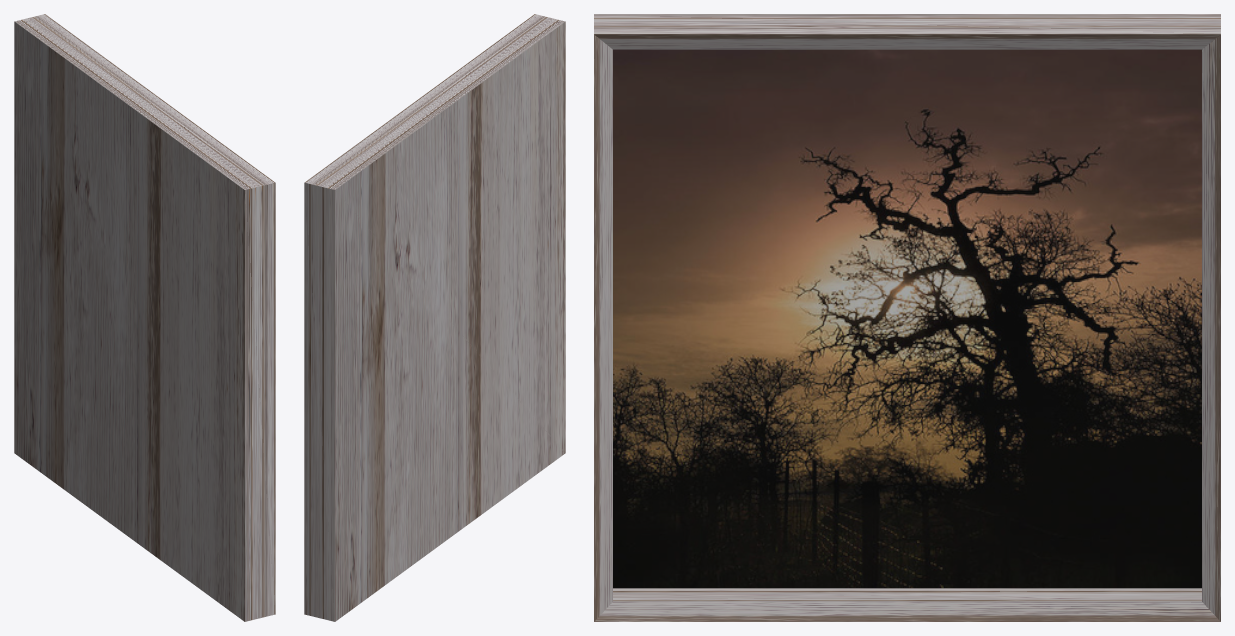
The model's file is frame.glb.
3 renders of one model, left to right at view 1: azimuth 30°, elevation 25°; view 2: azimuth 150°, elevation 25°; view 3: azimuth 270°, elevation 25°, orthographic. The views are drawn at different scales.
Visible parts, largest first — view 1: Object_3; view 2: Object_3; view 3: Object_2, Object_3.
Part boxes in pixels (bbox=[...]): Object_3: bbox=[14, 14, 275, 621]; Object_3: bbox=[304, 14, 565, 621]; Object_2: bbox=[613, 49, 1201, 588]; Object_3: bbox=[594, 14, 1220, 621].
Bounding box in the file's own units: 0.18 × 2.42 × 2.34.
Materials: 2 (2 with a texture image).
